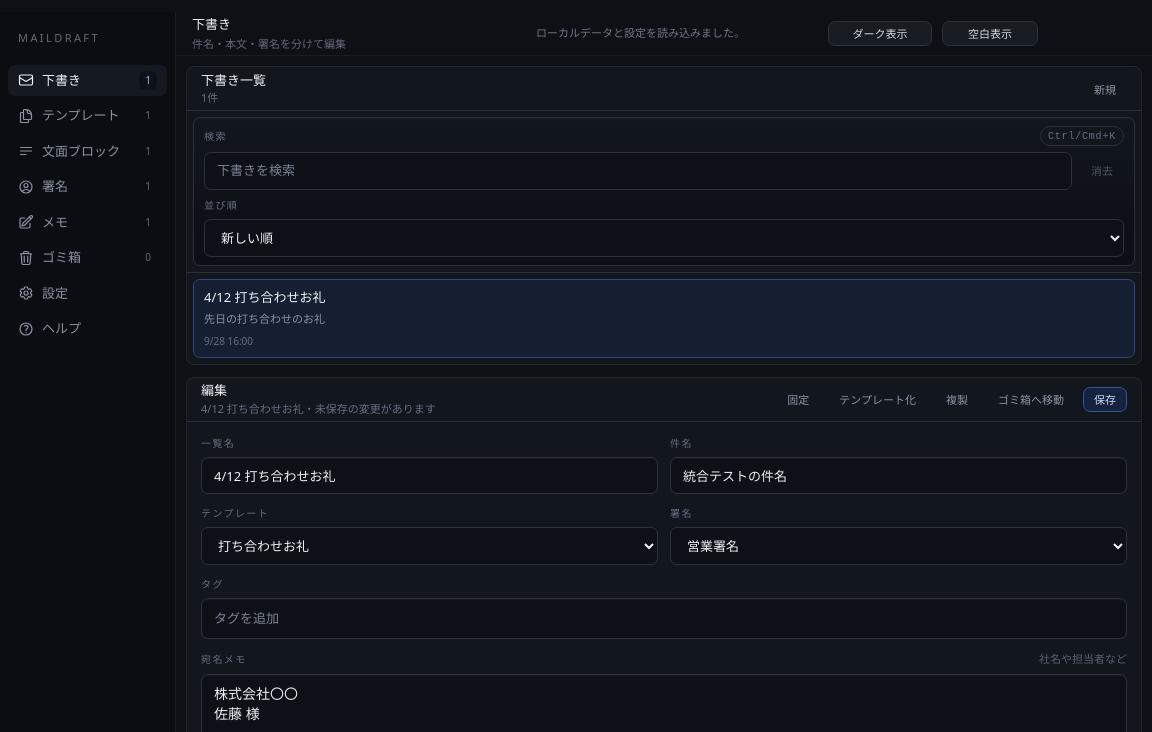
Scenario: App runtime integration › boots from mocked Tauri IPC and saves an edited draft
Click the button "保存": (1105,399) top-left (1083, 386), bottom-right (1127, 412)
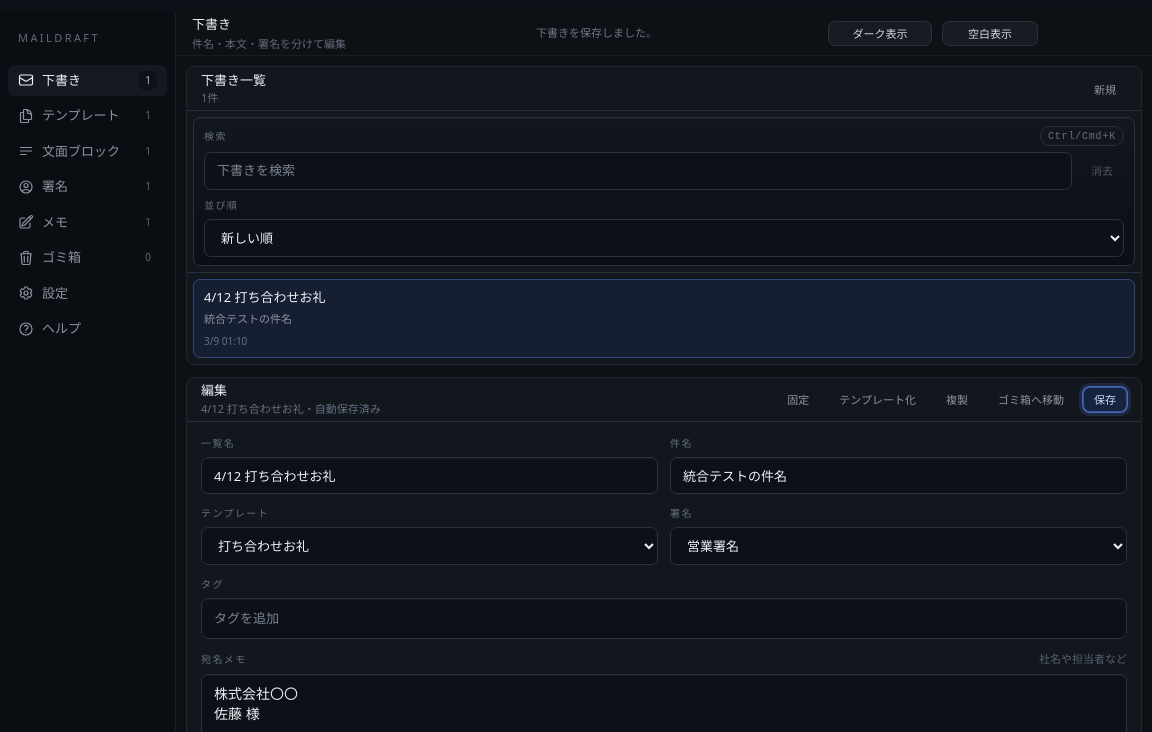
Check: the text "統合テストの件名" is shown, box top-left (204, 311), bottom-right (292, 326)
Check: the text "下書きを保存しました。" is shown, box top-left (536, 25), bottom-right (657, 40)
